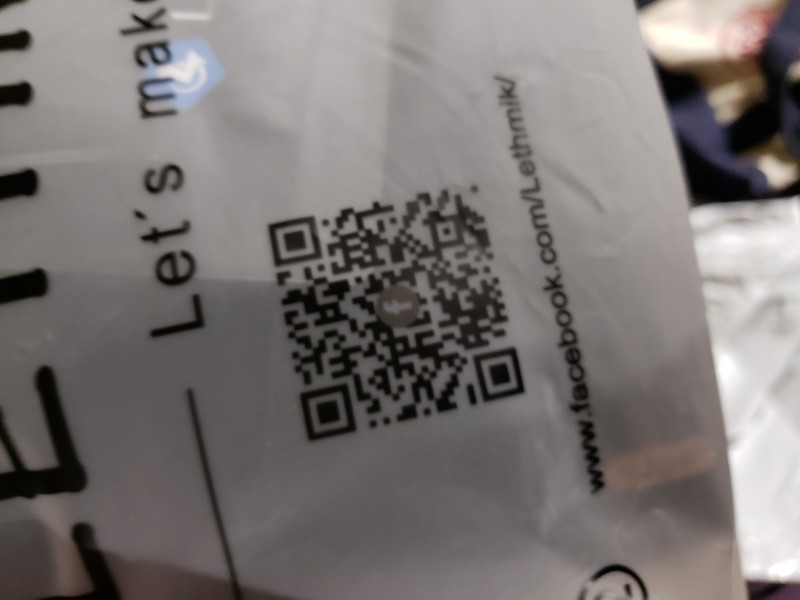QR_CODE: (245, 159, 535, 452)
